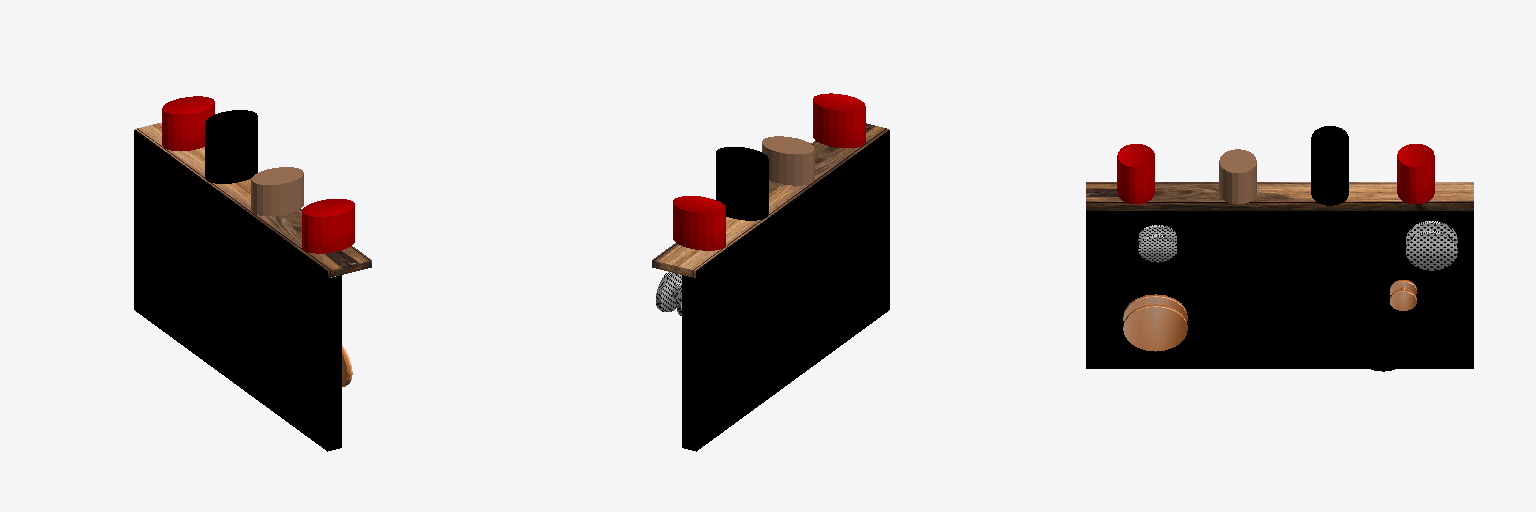
3 views of the same model, side by side, from view 1: azimuth 30°, elevation 25°; view 2: azimuth 150°, elevation 25°; view 3: azimuth 270°, elevation 25° (orthographic).
Size of the model in its own units: 1.62 by 7.21 by 10.68.
Materials: 9 (5 with a texture image).